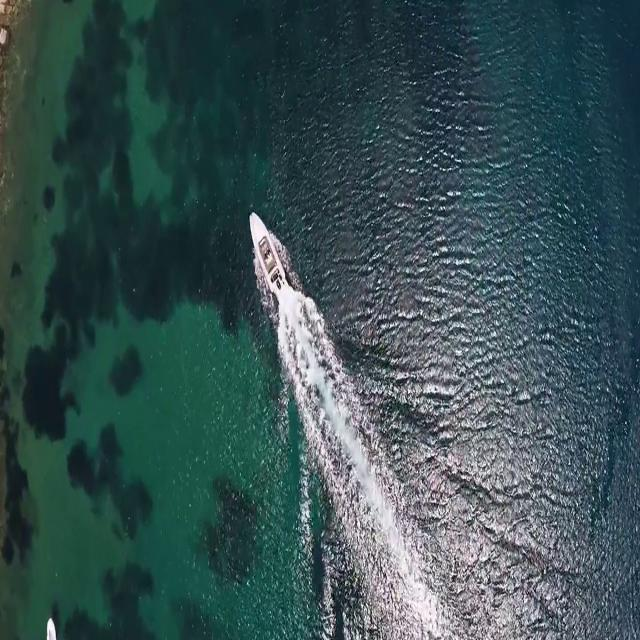ship: (242, 198, 299, 320)
